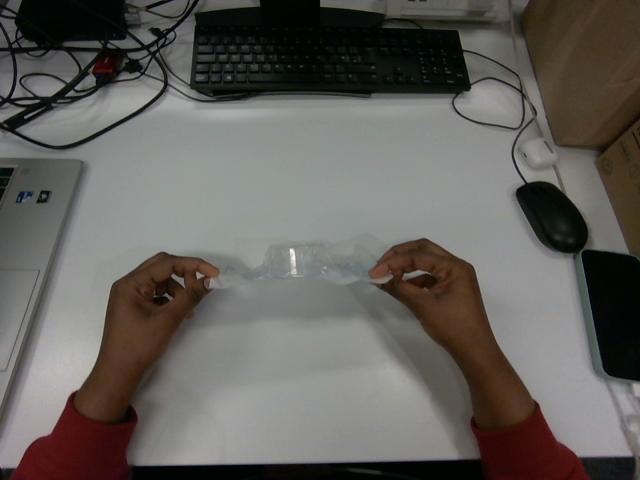gallipot: (210, 243, 391, 288)
